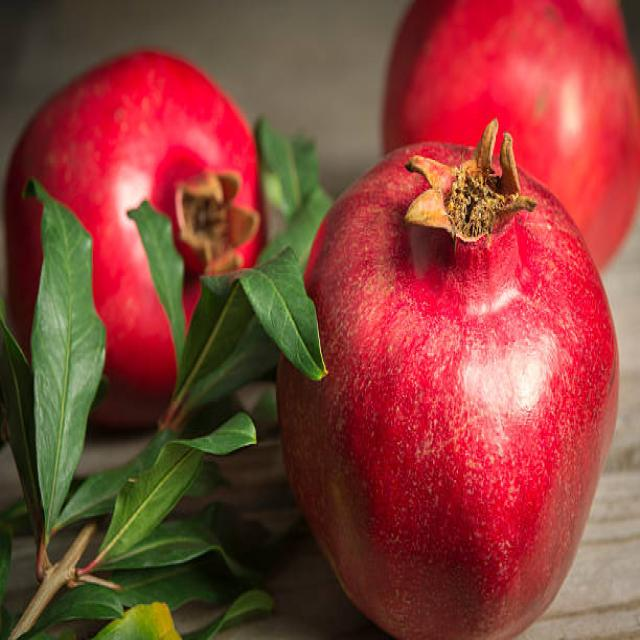Ripe: (275, 127, 620, 640), (2, 38, 266, 415), (373, 0, 640, 125)
